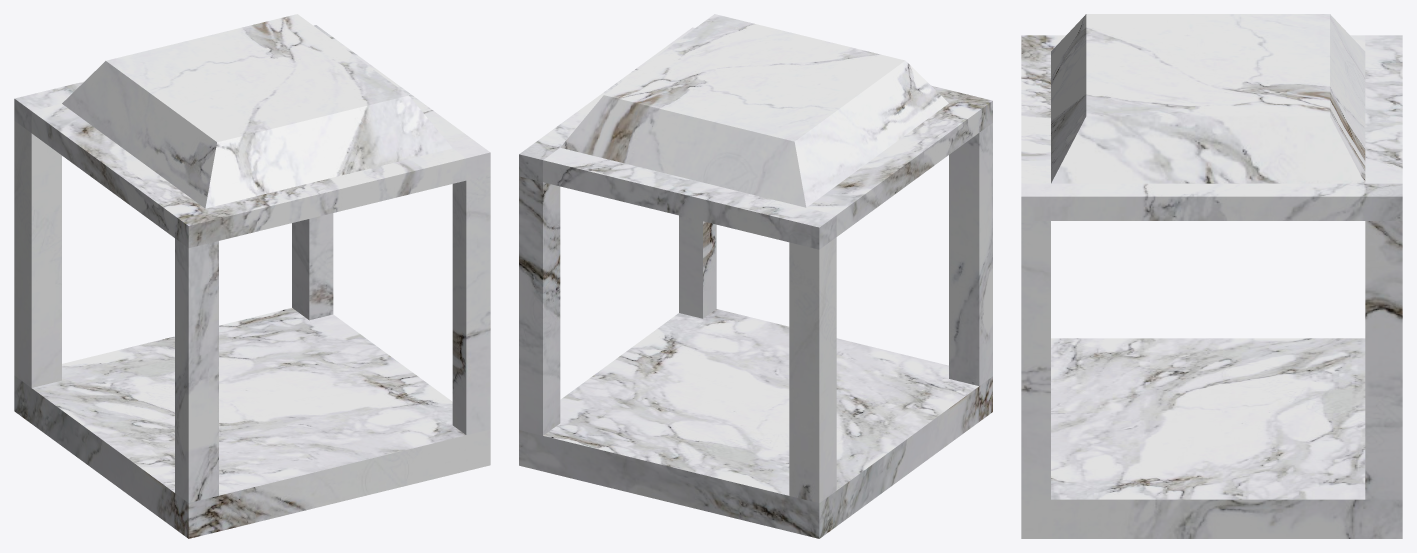
The model's file is MarbleTextureBlock.dae.
3 views of the same model, side by side, from view 1: azimuth 30°, elevation 25°; view 2: azimuth 150°, elevation 25°; view 3: azimuth 270°, elevation 25° (orthographic). The views are drawn at different scales.
Visible parts, largest first — view 1: Cube; view 2: Cube; view 3: Cube.
Boxes of the visible parts, x1,y1,x2,y2 form: Cube: (14, 14, 490, 538); Cube: (519, 14, 992, 538); Cube: (1021, 14, 1402, 538).
Bounding box in the file's own units: 8.22 × 8.22 × 9.39.
